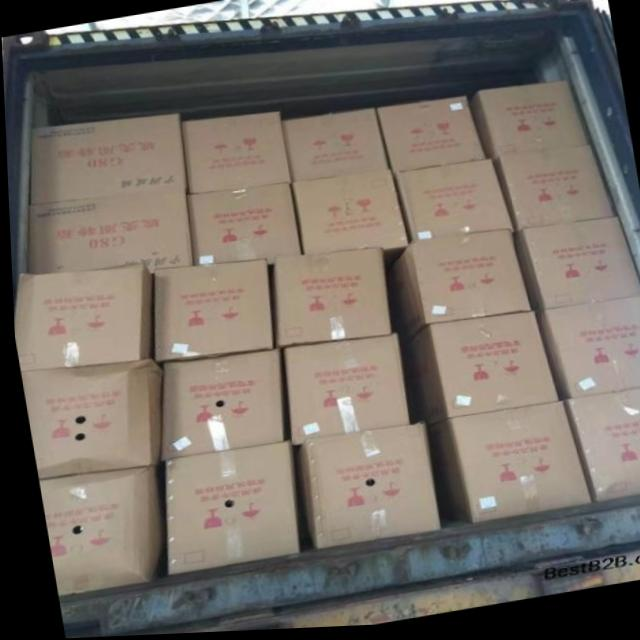box: (432, 407, 589, 529), (293, 426, 436, 552), (161, 443, 296, 576), (17, 361, 157, 479), (36, 467, 159, 599), (408, 318, 555, 424), (391, 235, 533, 342), (11, 263, 148, 371), (26, 185, 187, 274), (156, 352, 282, 463), (29, 114, 185, 203), (282, 338, 406, 448), (509, 222, 640, 316), (150, 263, 269, 365), (290, 173, 406, 274), (270, 250, 388, 348), (535, 300, 640, 404), (495, 149, 613, 237), (395, 162, 515, 247), (185, 182, 298, 269), (180, 114, 291, 195), (562, 393, 640, 507), (475, 86, 585, 163), (376, 100, 485, 176), (277, 110, 386, 183)
